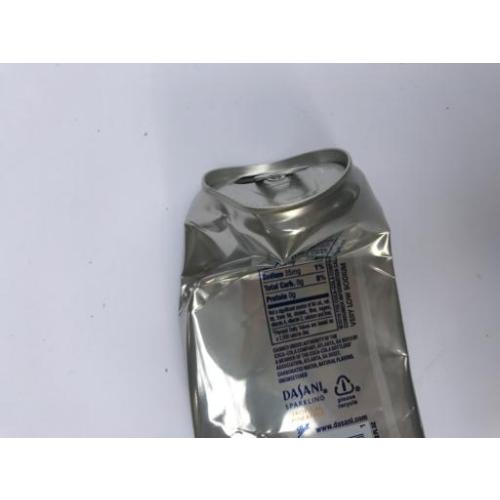metal: (182, 151, 422, 436)
